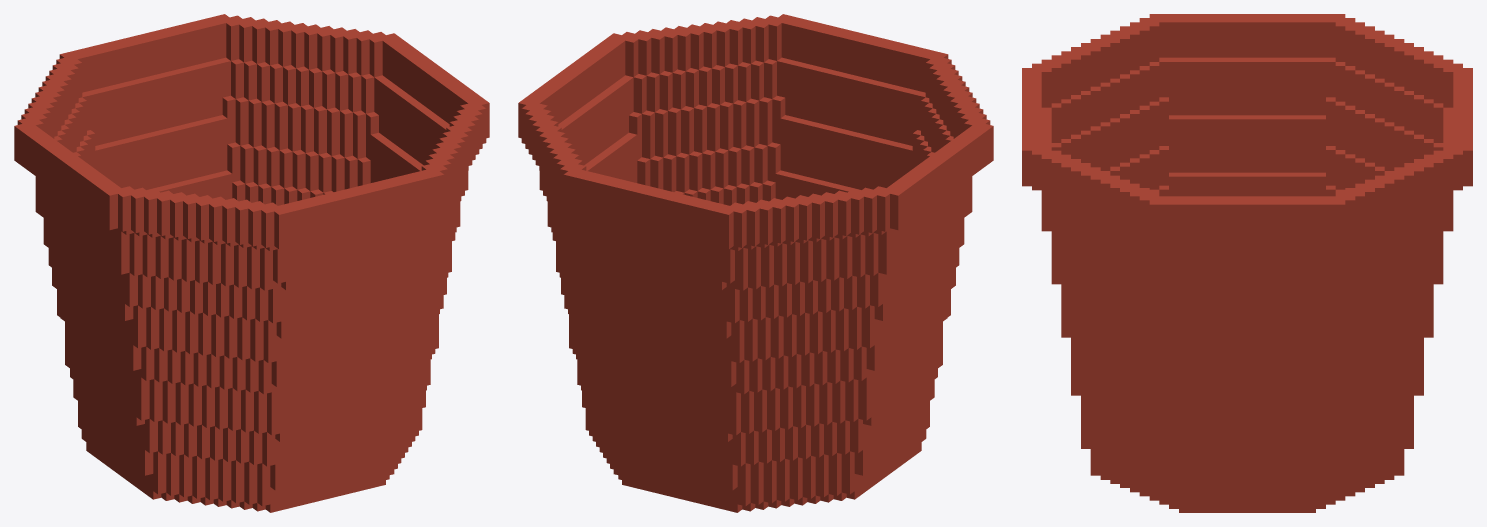
Rendered from plastic_pot_flower.glb.
3 renders of one model, left to right at view 1: azimuth 30°, elevation 25°; view 2: azimuth 150°, elevation 25°; view 3: azimuth 270°, elevation 25°, orthographic. The views are drawn at different scales.
Visible parts, largest first — view 1: plastic_pot_flower:compound; view 2: plastic_pot_flower:compound; view 3: plastic_pot_flower:compound.
Part boxes in pixels (left/top/right/bottom): plastic_pot_flower:compound: left=14, top=14, right=489, bottom=512; plastic_pot_flower:compound: left=518, top=14, right=993, bottom=512; plastic_pot_flower:compound: left=1022, top=14, right=1472, bottom=512.
Bounding box in the file's own units: 0.184 × 0.152 × 0.184.
